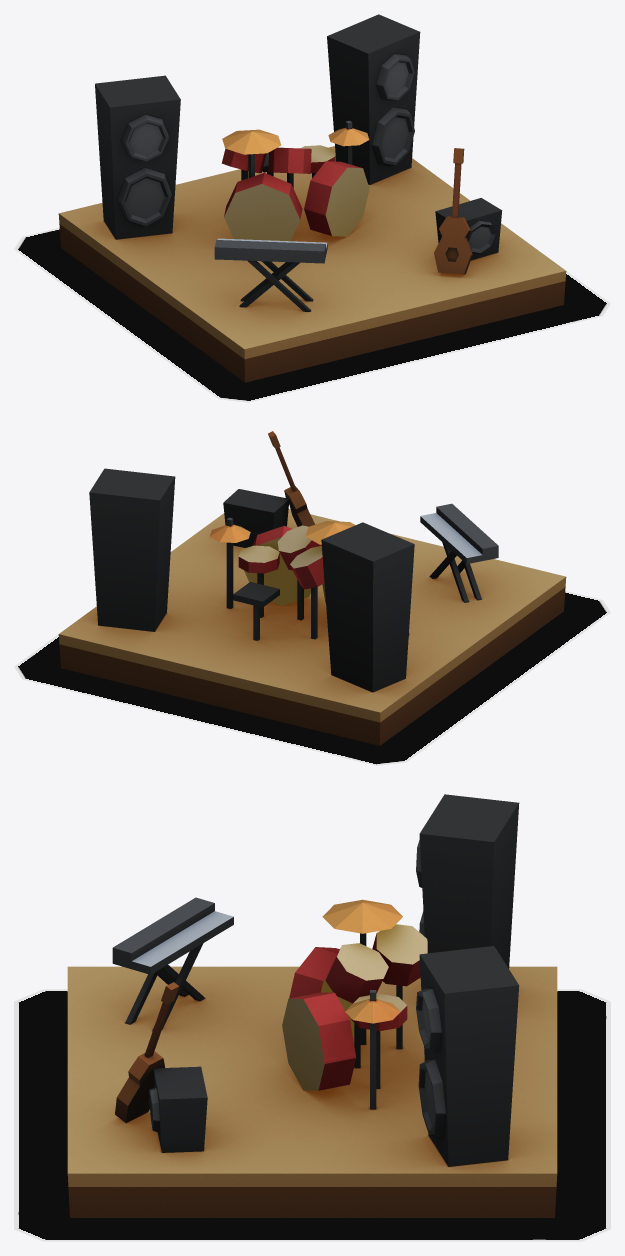
The model's file is 4x4_stage.FBX.
3 renders of one model, top to bottom at view 1: azimuth 30°, elevation 25°; view 2: azimuth 150°, elevation 25°; view 3: azimuth 270°, elevation 25°, orthographic. The views are drawn at different scales.
Visible parts, largest first — view 1: 4x4_stage, 4x4_stage_soft_shadow; view 2: 4x4_stage, 4x4_stage_soft_shadow; view 3: 4x4_stage, 4x4_stage_soft_shadow.
Part boxes in pixels (<box>): 4x4_stage: <box>58,14,566,382</box>; 4x4_stage_soft_shadow: <box>14,227,610,402</box>; 4x4_stage: <box>58,431,566,745</box>; 4x4_stage_soft_shadow: <box>14,591,610,765</box>; 4x4_stage: <box>67,794,557,1217</box>; 4x4_stage_soft_shadow: <box>14,989,610,1241</box>.
Bounding box in the file's own units: 4634 × 1924 × 4634.
